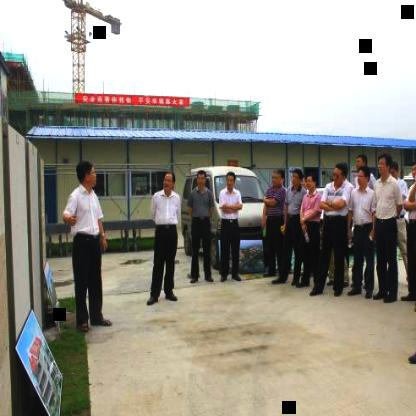head: (75, 156, 99, 190), (353, 164, 373, 190), (330, 162, 347, 190), (224, 167, 240, 191), (377, 150, 391, 174), (161, 170, 176, 192), (270, 165, 285, 187), (289, 168, 304, 190), (194, 167, 208, 189), (303, 172, 318, 190), (354, 154, 368, 172), (388, 160, 400, 180), (410, 156, 416, 186)
